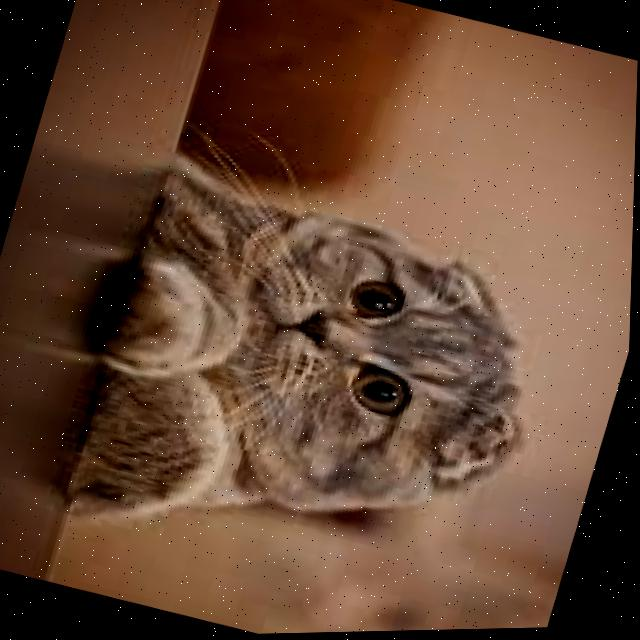Scottish Fold: (43, 133, 588, 629)
